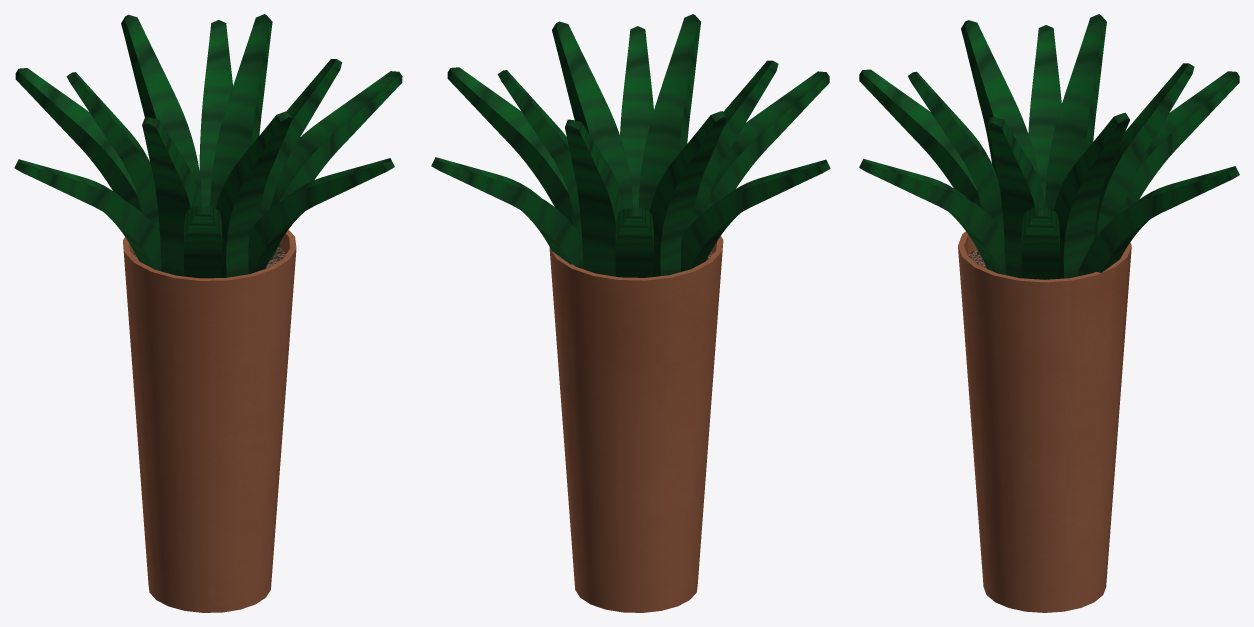
File: vaso.fbx
3 renders of one model, left to right at view 1: azimuth 30°, elevation 25°; view 2: azimuth 150°, elevation 25°; view 3: azimuth 270°, elevation 25°, orthographic.
Visible parts, largest first — view 1: pCylinder1, pCube8, pCube10, pCube4, pCube14, pCube6, pCube11, pCube3, pCube13, pCube5, pCube12, pCube2 (+1 smaller); view 2: pCylinder1, pCube8, pCube12, pCube11, pCube9, pCube4, pCube2, pCube13, pCube5, pCube3, pCube14, pCube10 (+1 smaller); view 3: pCylinder1, pCube12, pCube10, pCube9, pCube11, pCube5, pCube3, pCube2, pCube6, pCube14, pCube13, pCube8 (+1 smaller).
Part boxes in pixels (box(x1,y1,x2,y2)): pCylinder1: box(123, 229, 296, 612); pCube8: box(216, 111, 292, 277); pCube10: box(210, 14, 272, 207); pCube4: box(270, 71, 402, 260); pCube14: box(142, 117, 201, 276); pCube6: box(15, 68, 139, 210); pCube11: box(121, 14, 201, 205); pCube3: box(248, 158, 394, 274); pCube13: box(14, 159, 161, 271); pCube5: box(199, 20, 232, 206); pCube12: box(66, 72, 159, 232); pCube2: box(184, 205, 222, 278); pCylinder1: box(549, 236, 723, 612); pCube8: box(639, 14, 700, 211); pCube12: box(650, 111, 727, 276); pCube11: box(565, 119, 623, 276); pCube9: box(552, 21, 632, 208); pCube4: box(447, 67, 572, 224); pCube2: box(706, 71, 829, 209); pCube13: box(681, 159, 830, 271); pCube5: box(431, 157, 583, 269); pCube3: box(620, 26, 653, 208); pCube14: box(692, 60, 778, 222); pCube10: box(497, 70, 581, 237); pCylinder1: box(958, 231, 1131, 612); pCube12: box(1045, 14, 1106, 210); pCube10: box(1053, 112, 1129, 278); pCube9: box(987, 117, 1046, 278); pCube11: box(1094, 63, 1194, 239); pCube5: box(1078, 166, 1239, 276); pCube3: box(859, 158, 1006, 274); pCube2: box(859, 69, 980, 207); pCube6: box(1123, 71, 1239, 210); pCube14: box(961, 20, 1038, 178); pCube13: box(1028, 25, 1061, 200); pCube8: box(908, 71, 1003, 270).
Bounding box in the file's own units: 4.84 × 6.27 × 4.16.
